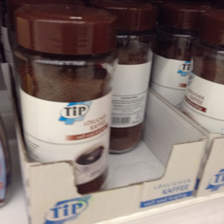chocolate: (13, 5, 110, 193), (105, 3, 155, 155)
